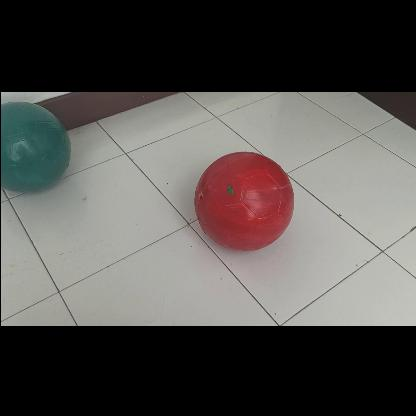red_ball: (195, 149, 295, 249)
